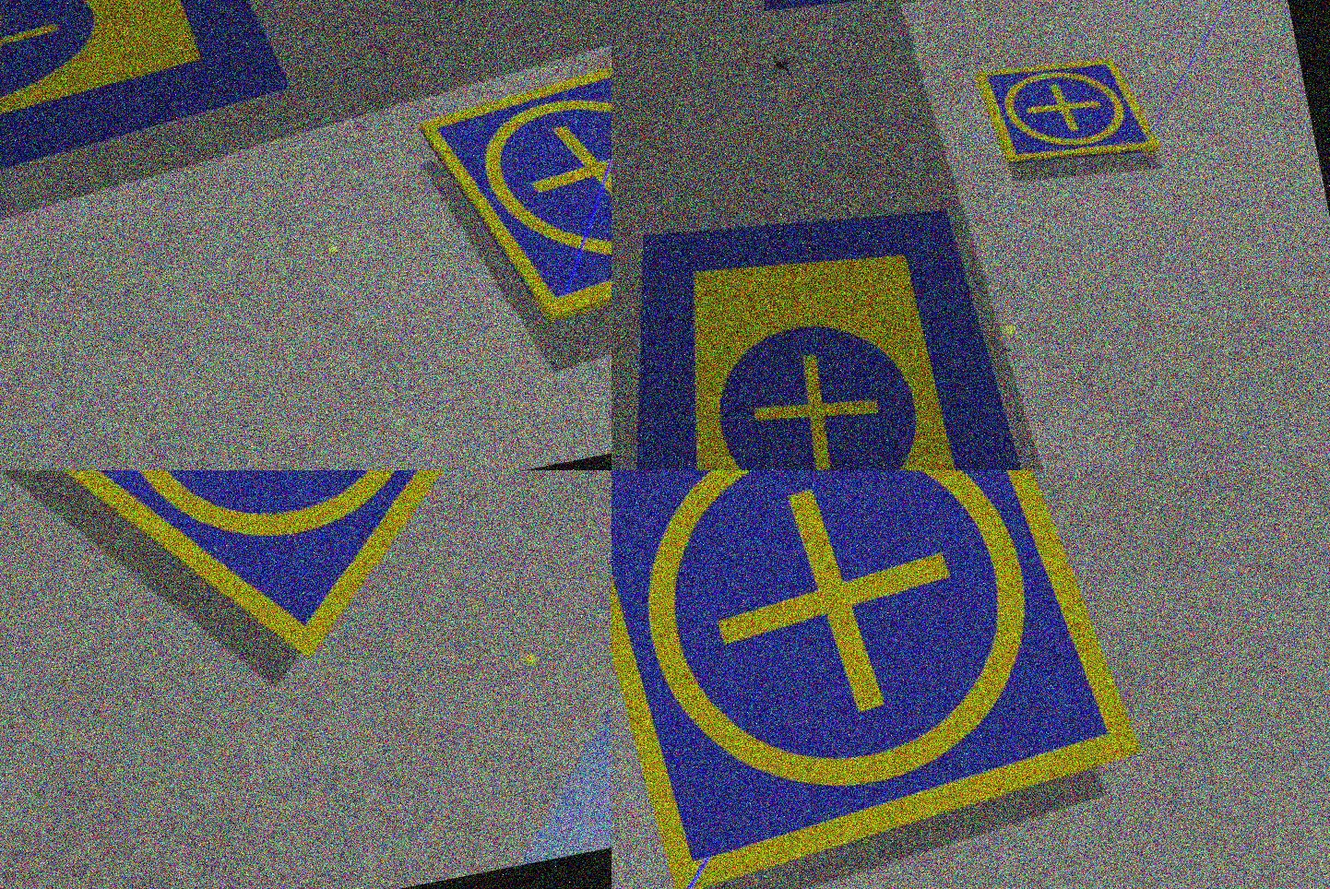large_base: (612, 166, 1085, 471), (1, 1, 293, 234)
small_base: (612, 471, 1153, 889), (1, 471, 585, 705), (415, 31, 612, 334), (979, 34, 1165, 182)
